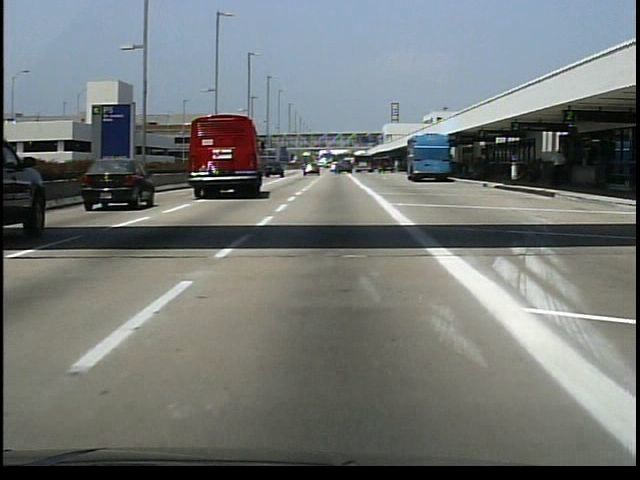person: (551, 149, 567, 188)
